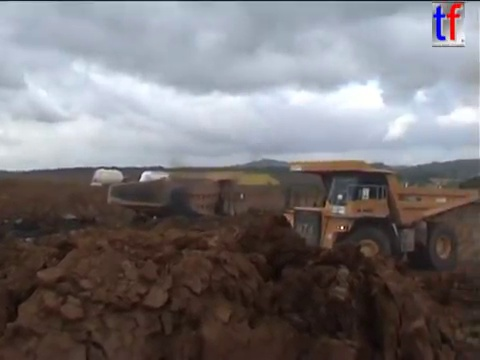truck: (276, 157, 480, 273), (104, 174, 248, 234), (136, 167, 180, 194), (89, 167, 131, 192)
